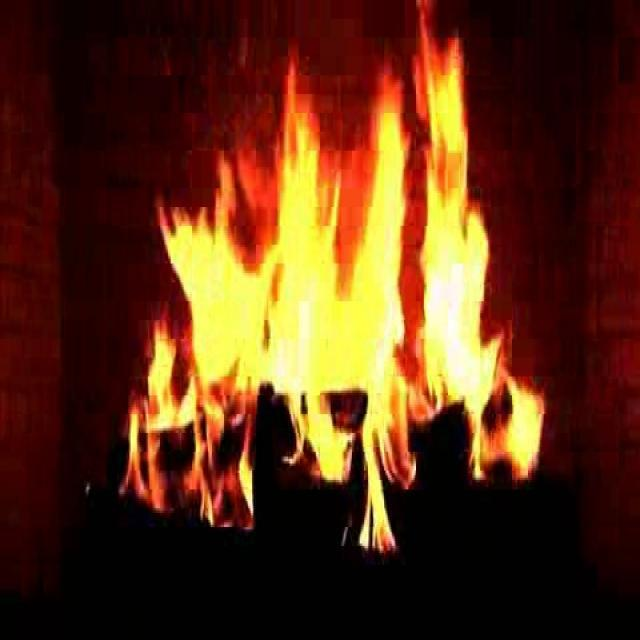Fire: (157, 70, 544, 546)
